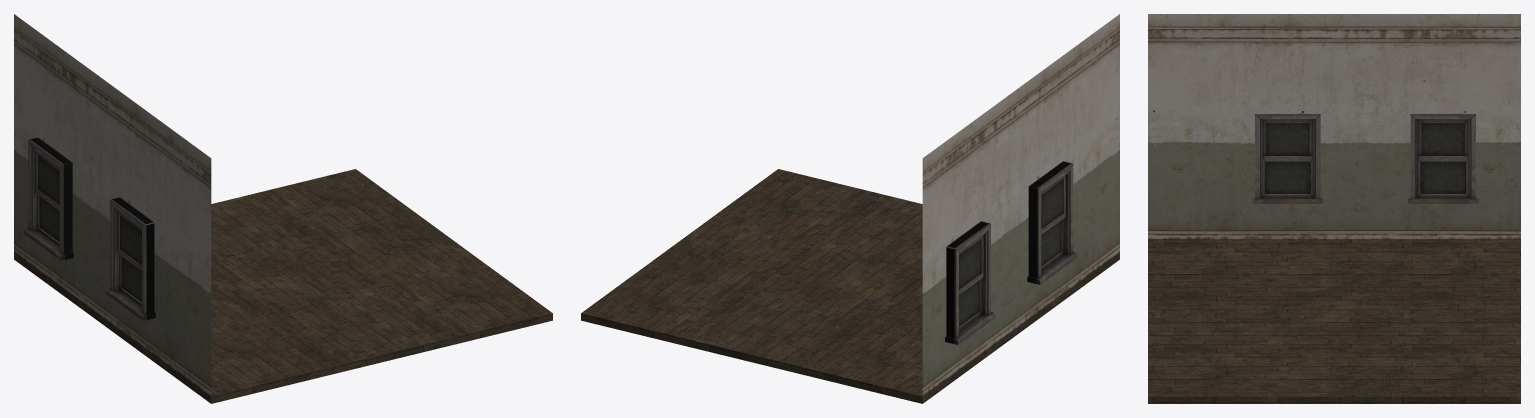
File: hallway_oneside_windows_left_6m.fbx
3 views of the same model, side by side, from view 1: azimuth 30°, elevation 25°; view 2: azimuth 150°, elevation 25°; view 3: azimuth 270°, elevation 25° (orthographic). The views are drawn at different scales.
Visible parts, largest first — view 1: hallway_oneside_windows_left_6m; view 2: hallway_oneside_windows_left_6m; view 3: hallway_oneside_windows_left_6m.
Boxes of the visible parts, <box> form: hallway_oneside_windows_left_6m: <box>14,14,552,403</box>; hallway_oneside_windows_left_6m: <box>581,14,1119,403</box>; hallway_oneside_windows_left_6m: <box>1148,14,1520,403</box>.
Size of the model in its own units: 623 by 412 by 600.
